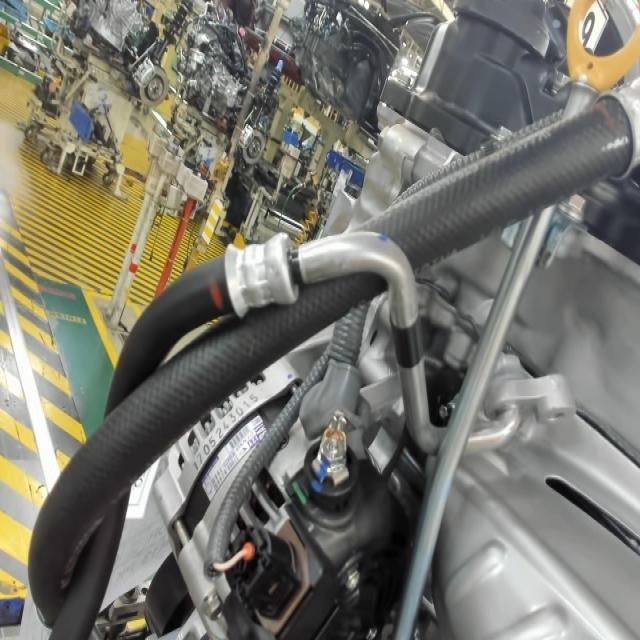Alternator-BA1: (248, 414, 267, 448)
Hose Discharge-HT: (387, 311, 427, 377)
